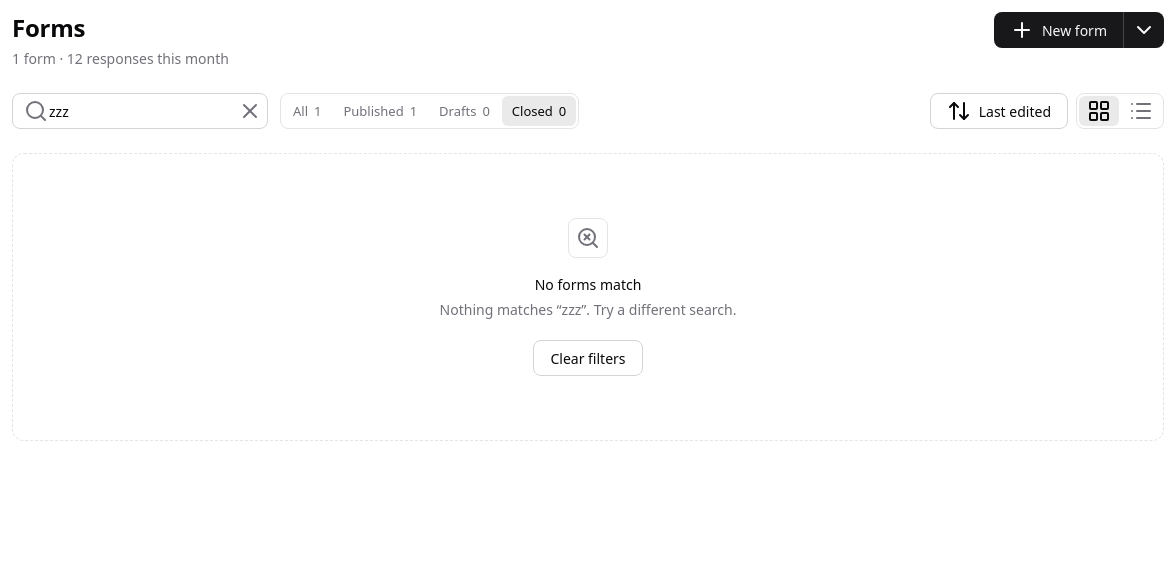
Scenario: FormsPage: search, filters and views › says when nothing matches, and clears the filters
Check: the text "No forms match" is shown, box [535,274,641,295]
Check: the text "Nothing matches “zzz”. Try a different search." is shown, box [440,299,736,320]
Click the button "Clear filters".
click(588, 358)  # box [533,340,642,376]
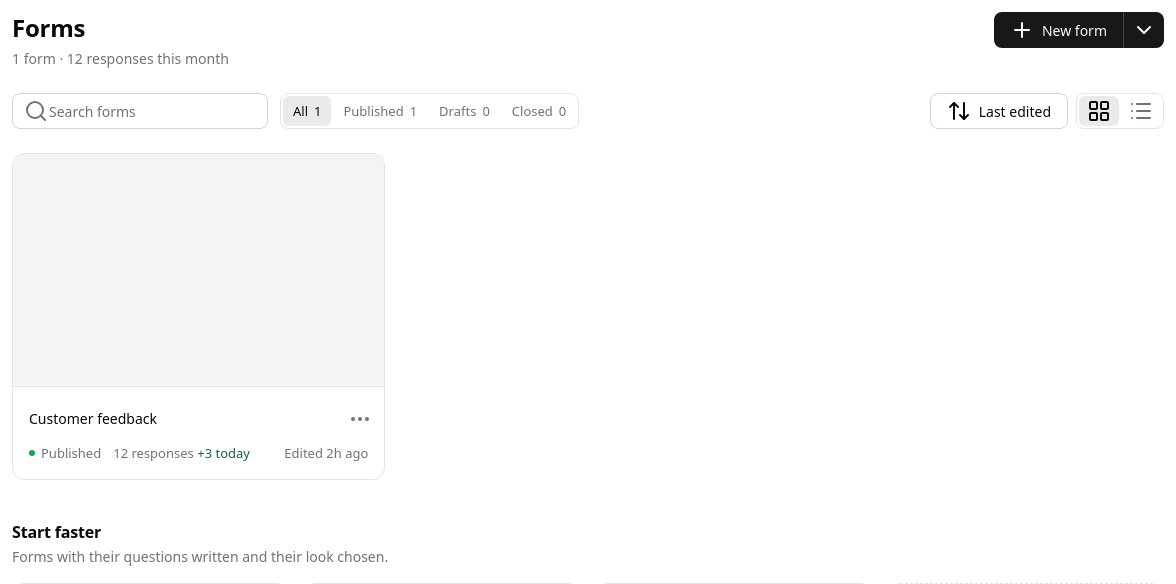
Check: the search field labelled "Search forms" is empty, box [12,93,268,129]
